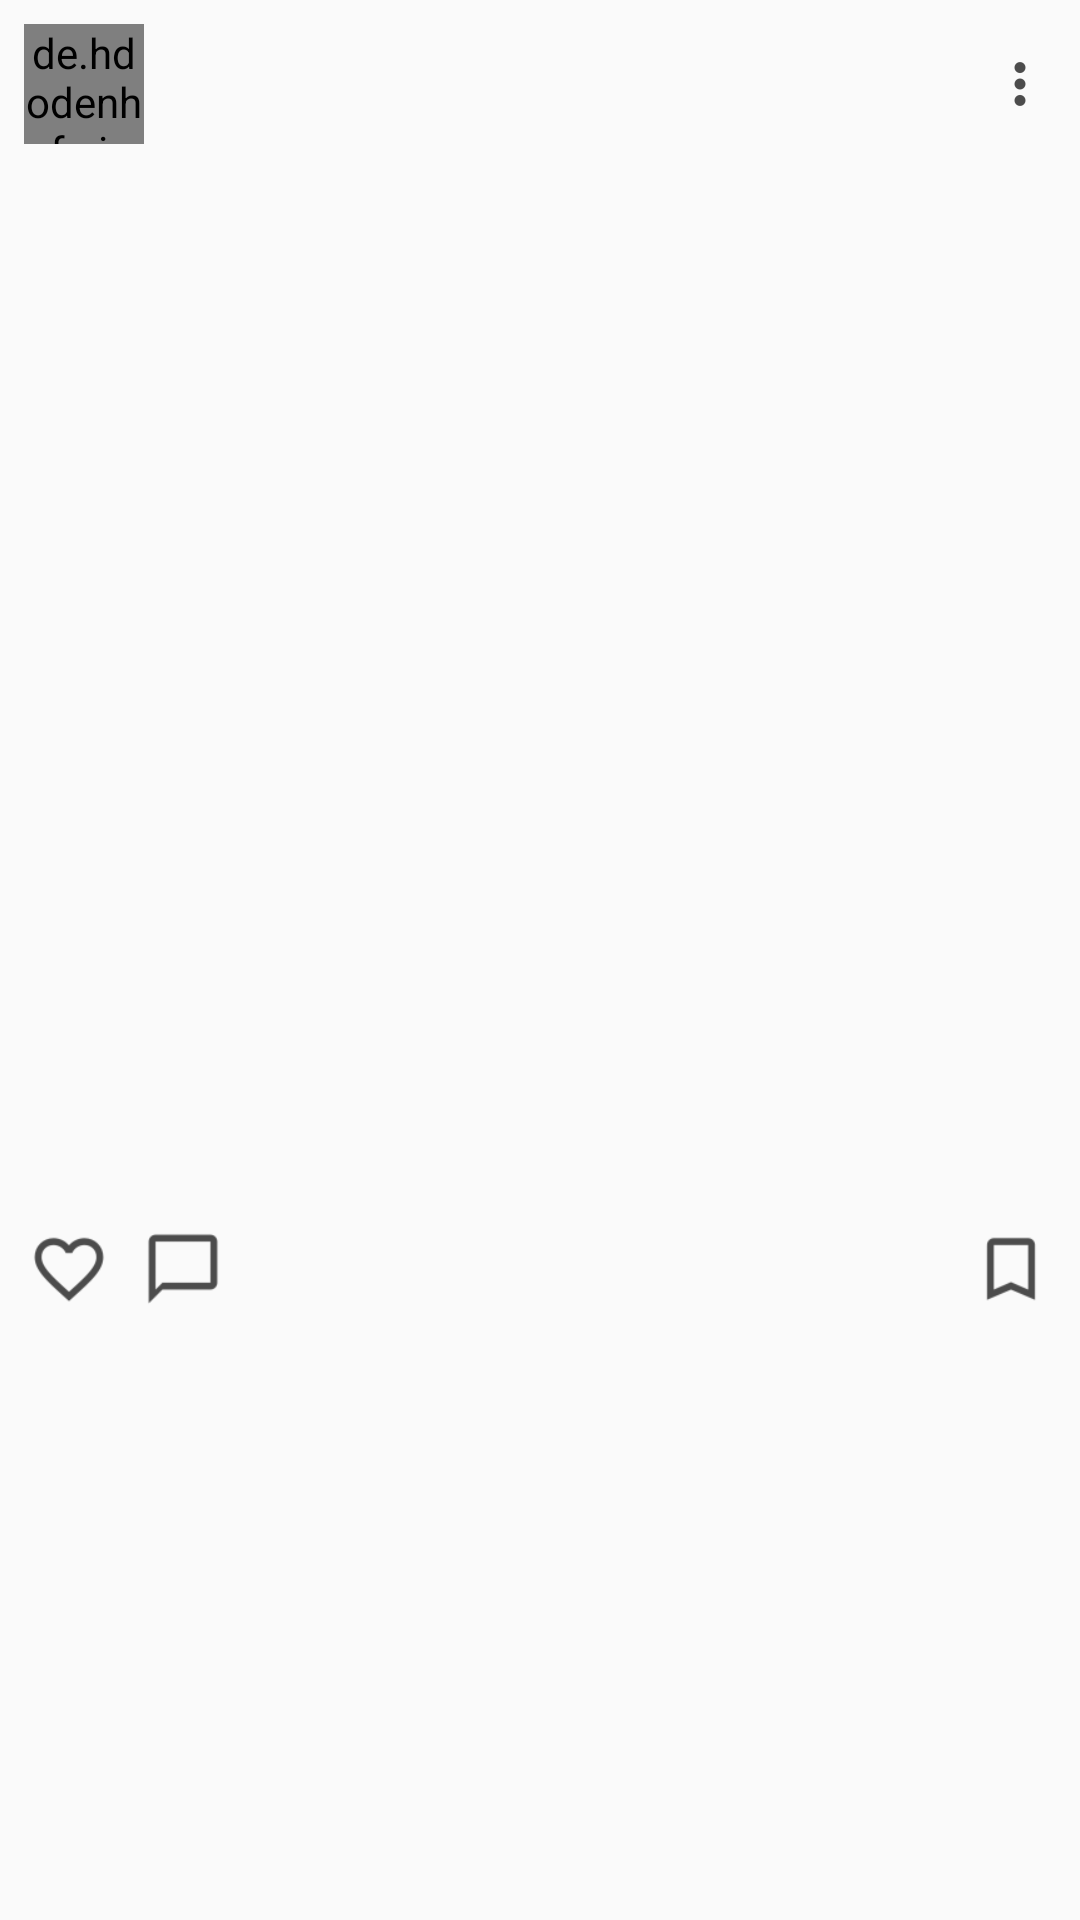

Named icons in this screenshot (1080*1920) and their bounding boxes, (x1, y1, x2, y2):
comment: (148, 1234, 218, 1303)
like: (34, 1237, 104, 1301)
more: (1014, 62, 1026, 106)
save: (986, 1237, 1036, 1300)
